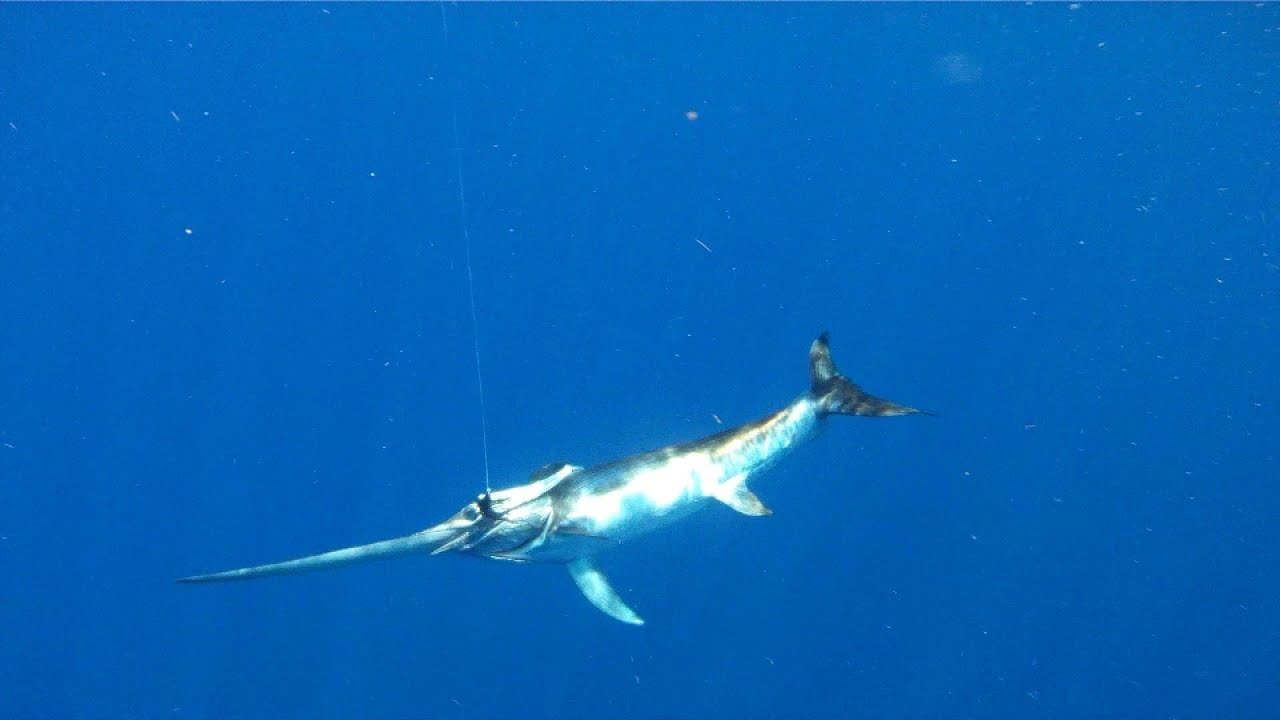swordfish: (125, 330, 970, 645)
